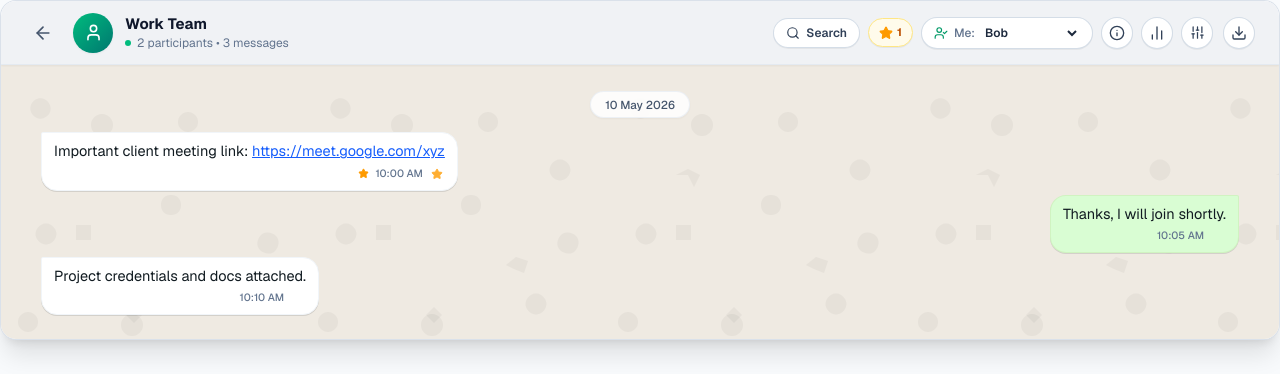
Scenario: Starred Messages & Bookmark Suite › Test 2 — Opens StarredMessagesPanel when Star button in header is clicked
What coordinates should you click on to do the following:
click the button titled "1 Starred Message"
I would click on:
 (890, 33)
Its box is [868,18,913,47].
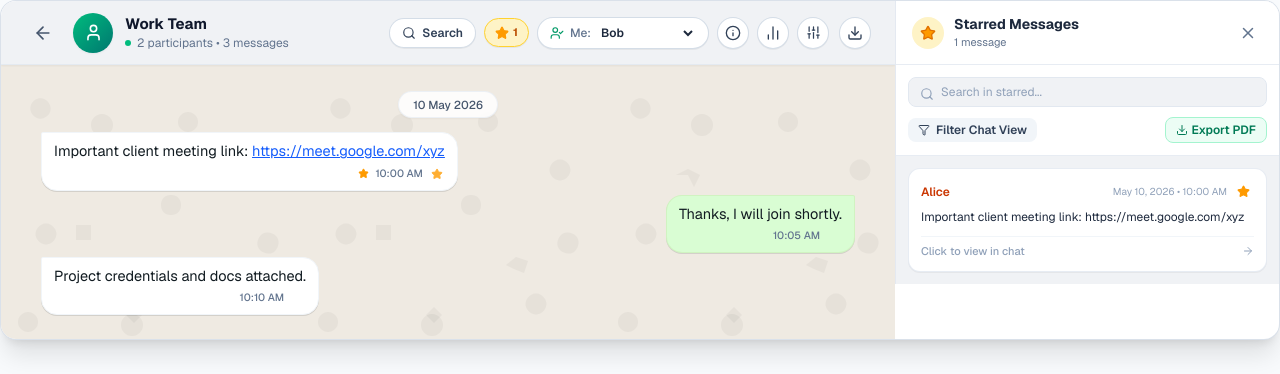
Expected: the text "Important client meeting link: https://meet.google.com/xyz" is shown, [54,141,445,162]
Now the heading "Starred Messages" is shown, box [954,14,1079,34]
